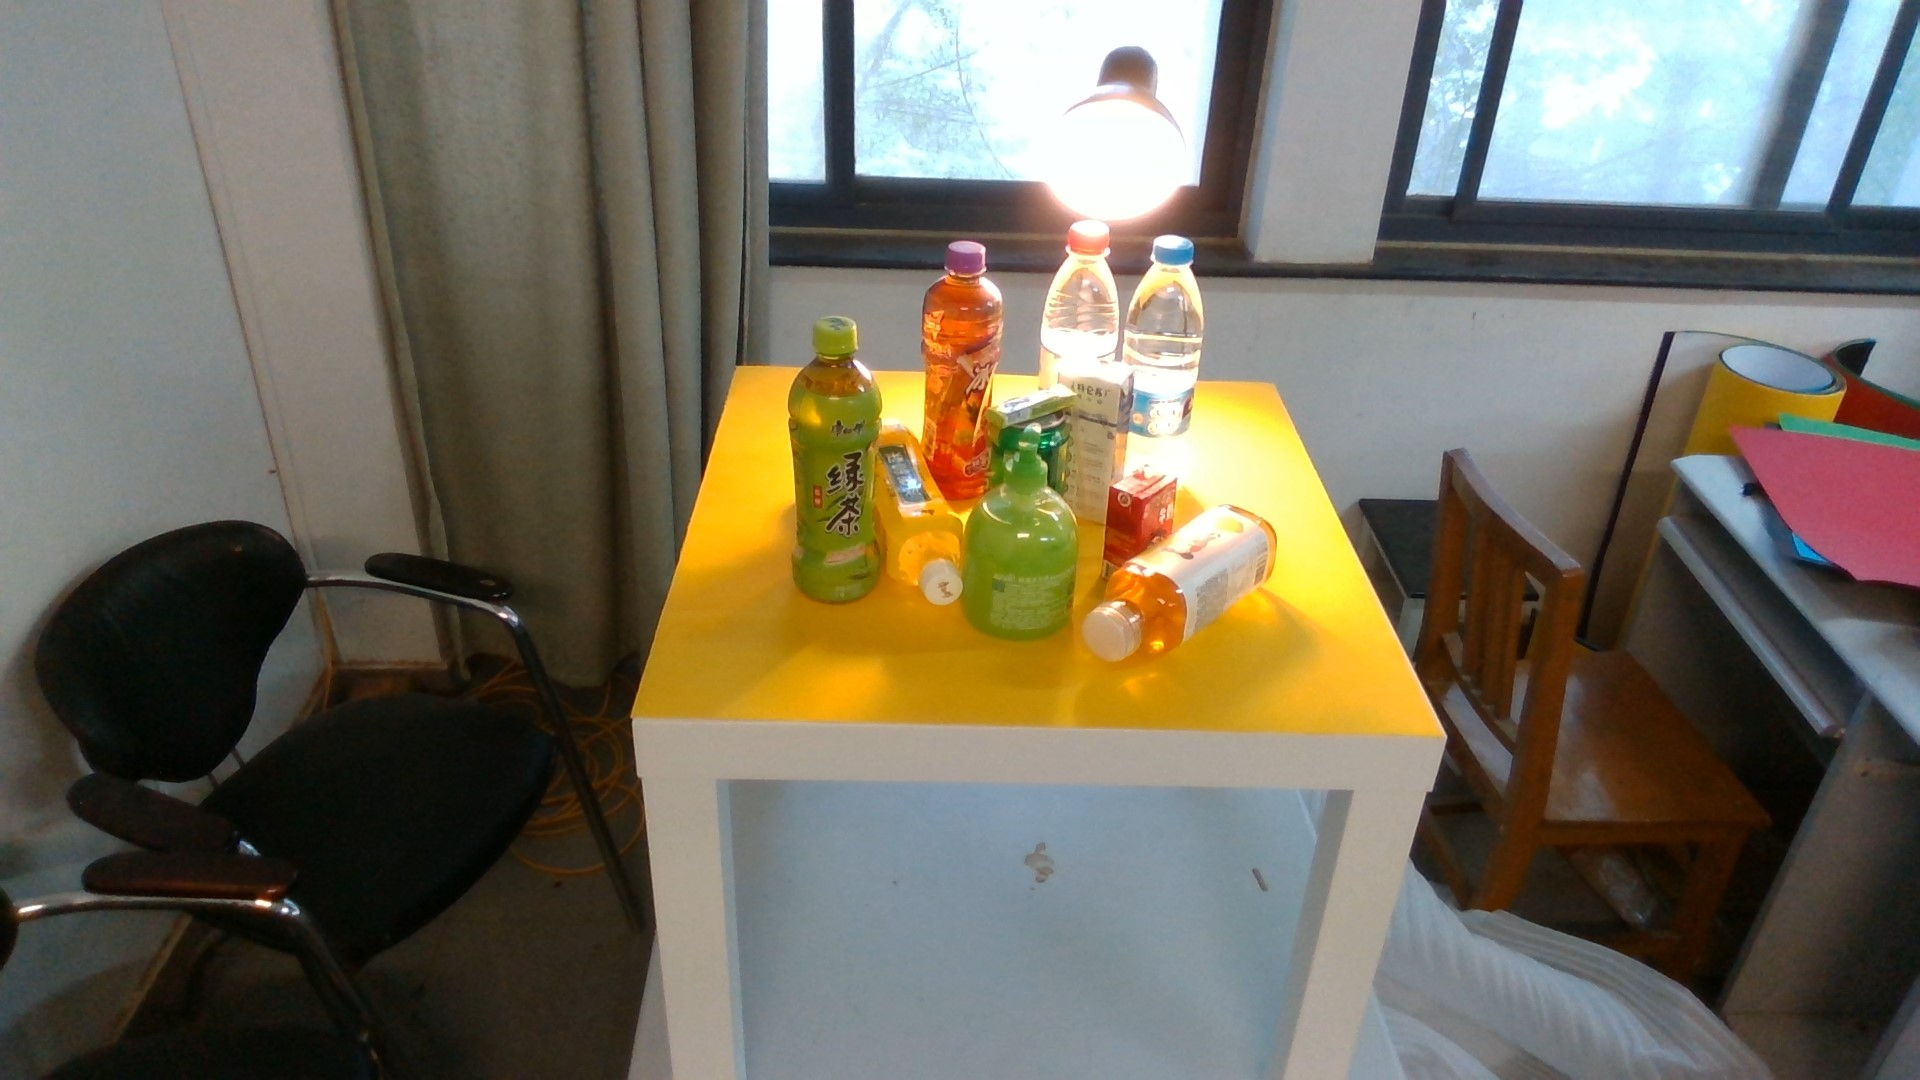BB002: (988, 380, 1075, 427)
BB010: (1076, 363, 1120, 520)
BB012: (1108, 463, 1178, 537)
ZA002: (963, 489, 1080, 641)
ZC001: (1040, 417, 1069, 485)
ZC009: (922, 243, 986, 477)
ZC010: (787, 314, 884, 605)
ZC011: (882, 415, 959, 605)
ZC012: (1083, 535, 1279, 659)
ZC014: (1040, 216, 1116, 363)
ZC019: (1135, 231, 1200, 460)
